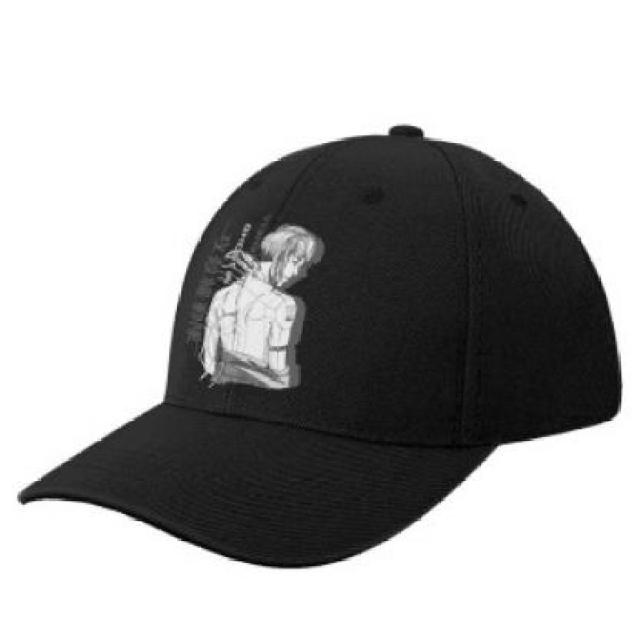hat: (17, 114, 626, 575)
